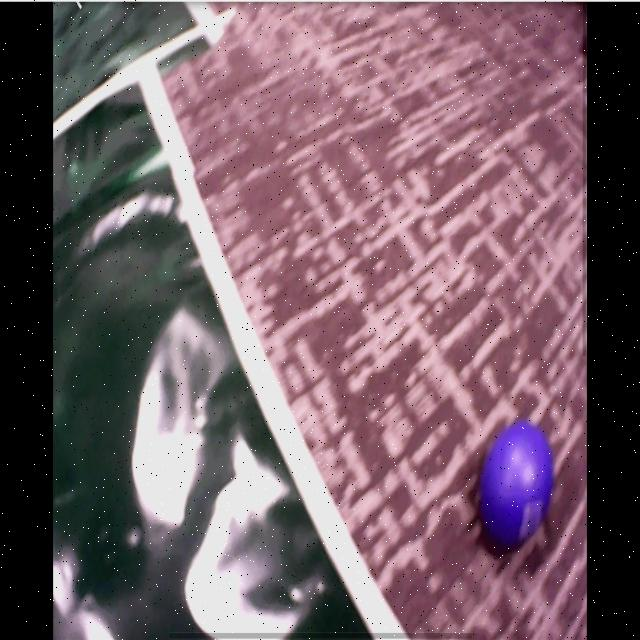ball: (482, 422, 551, 545)
